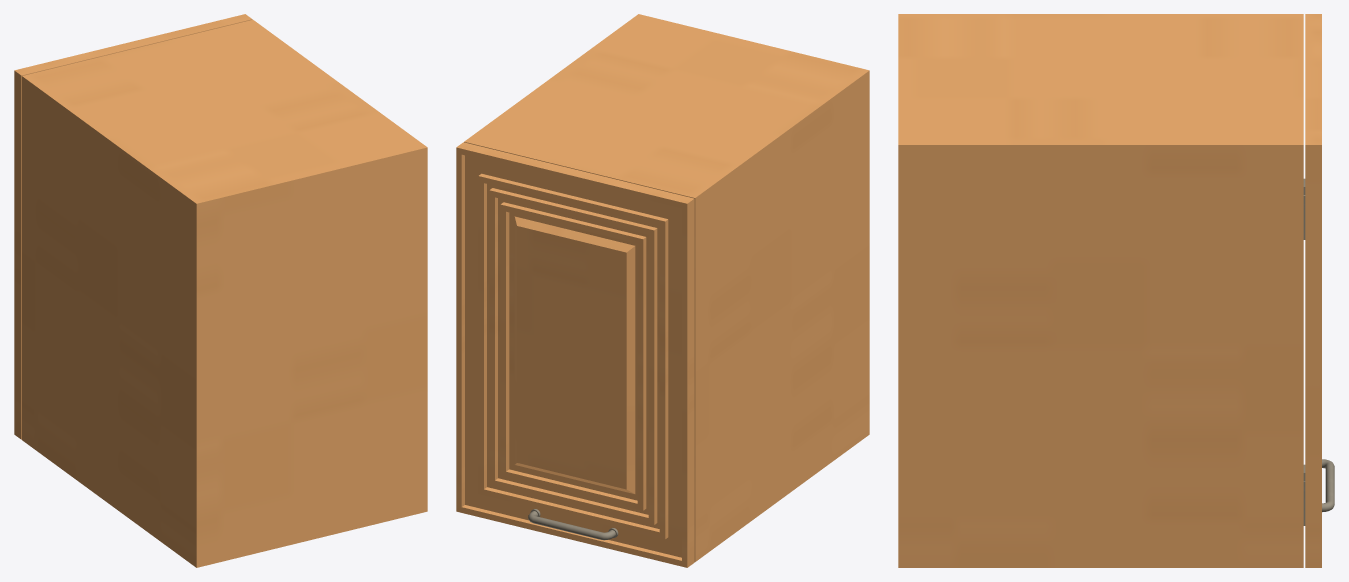
File: CabinetB06.glb
3 views of the same model, side by side, from view 1: azimuth 30°, elevation 25°; view 2: azimuth 150°, elevation 25°; view 3: azimuth 270°, elevation 25° (orthographic). The views are drawn at different scales.
Parts seen in each view (by area): view 1: CabinetB06_model, CabinetB06Door; view 2: CabinetB06_model, CabinetB06Door; view 3: CabinetB06_model, CabinetB06Door.
Boxes of the visible parts, x1=… form: CabinetB06_model: x1=22, y1=20, x2=427, y2=567; CabinetB06Door: x1=14, y1=14, x2=252, y2=439; CabinetB06_model: x1=464, y1=14, x2=869, y2=561; CabinetB06Door: x1=456, y1=142, x2=694, y2=567; CabinetB06_model: x1=898, y1=14, x2=1305, y2=567; CabinetB06Door: x1=1303, y1=14, x2=1334, y2=567.
Size of the model in its own units: 0.9256 by 1.39 by 1.29.
1 material, 1 textured.
